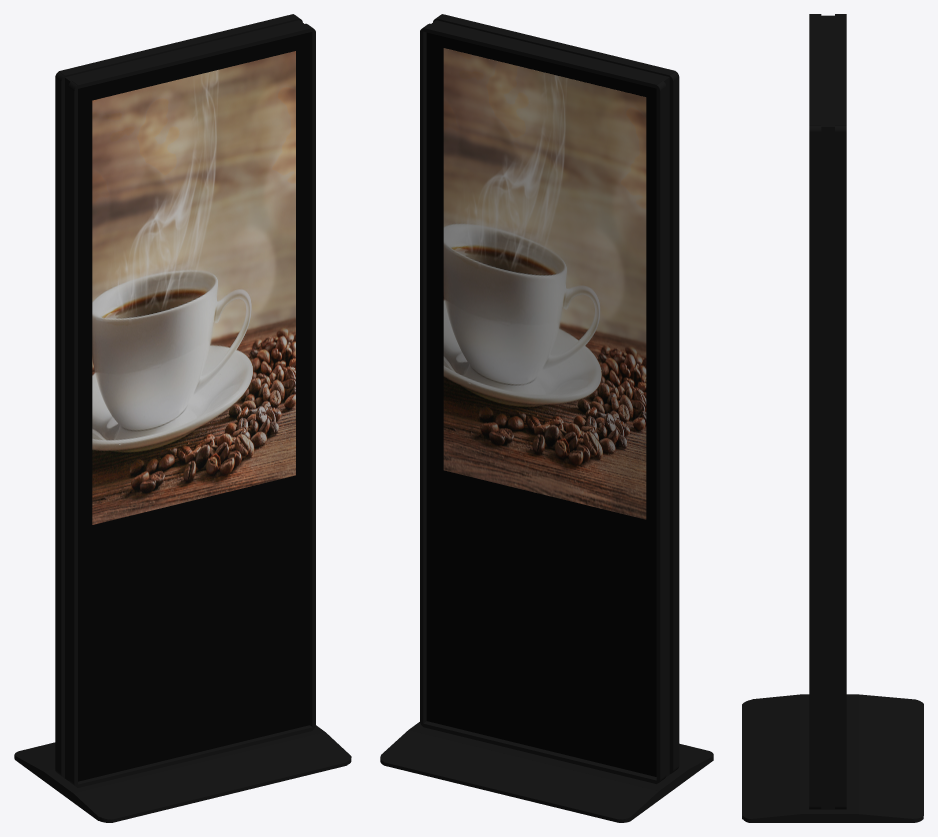
File: extra_touch_double.glb
The picture shows the model from 3 angles, left to right: view 1: azimuth 30°, elevation 25°; view 2: azimuth 150°, elevation 25°; view 3: azimuth 270°, elevation 25°; orthographic projection. The views are drawn at different scales.
Visible parts, largest first — view 1: Object_2, Object_4, Object_5; view 2: Object_3, Object_4, Object_5; view 3: Object_5.
Boxes of the visible parts, x1,y1,x2,y2 form: Object_2: (92, 51, 295, 524); Object_4: (78, 32, 309, 781); Object_5: (14, 14, 351, 822); Object_3: (443, 48, 646, 519); Object_4: (426, 32, 656, 776); Object_5: (380, 14, 713, 822); Object_5: (742, 14, 923, 822).
Bounding box in the file's own units: 2.23 × 6.02 × 1.43.
4 materials, 2 textured.
